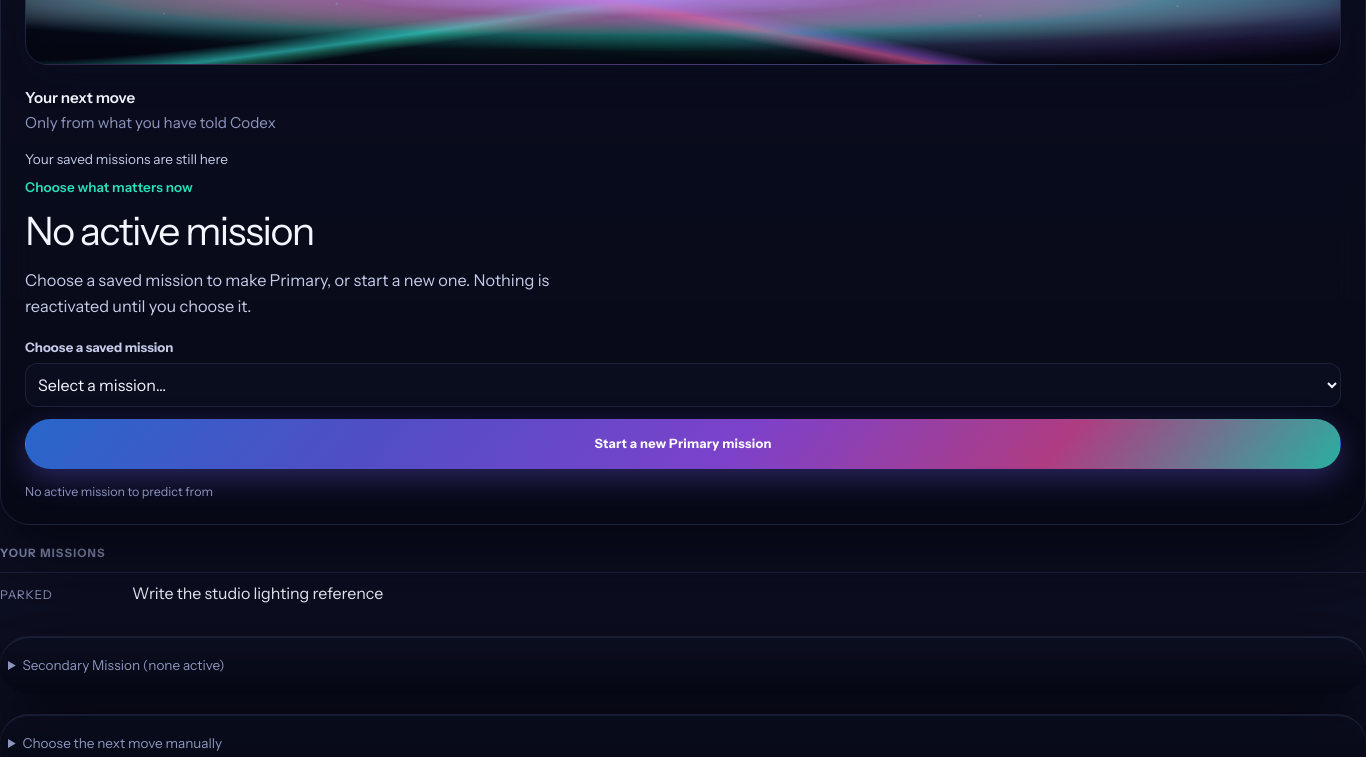
Test case: MissionTab inactive mission recovery › disables the other promotion path until finish-line persistence settles
(page scrolled)
Step 1. Select "Write the studio lighting reference — Parked" in the dropdown labelled "Choose a saved mission" → (683, 385), box [25,363,1341,407]
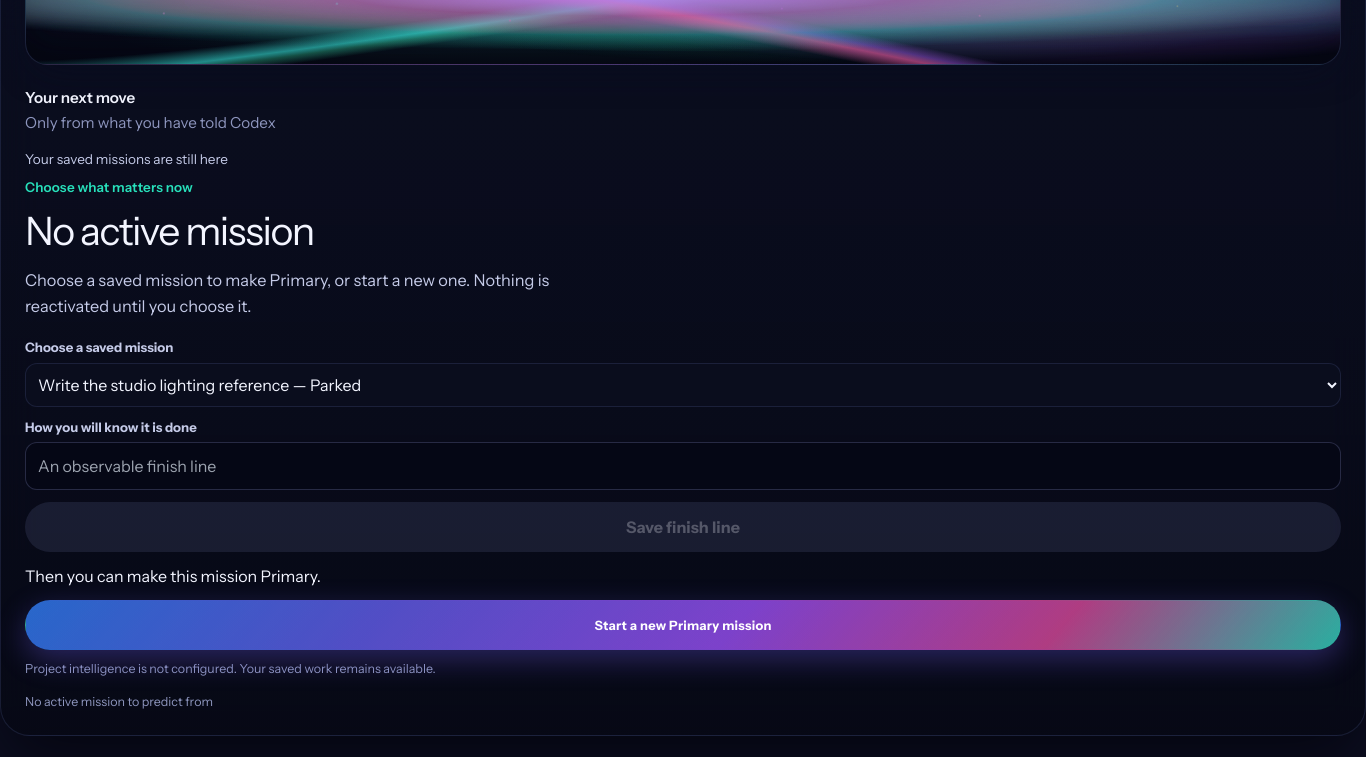
Step 2. Type "The reference is published" into the field labelled "How you will know it is done" → (683, 466), box [25,442,1341,490]
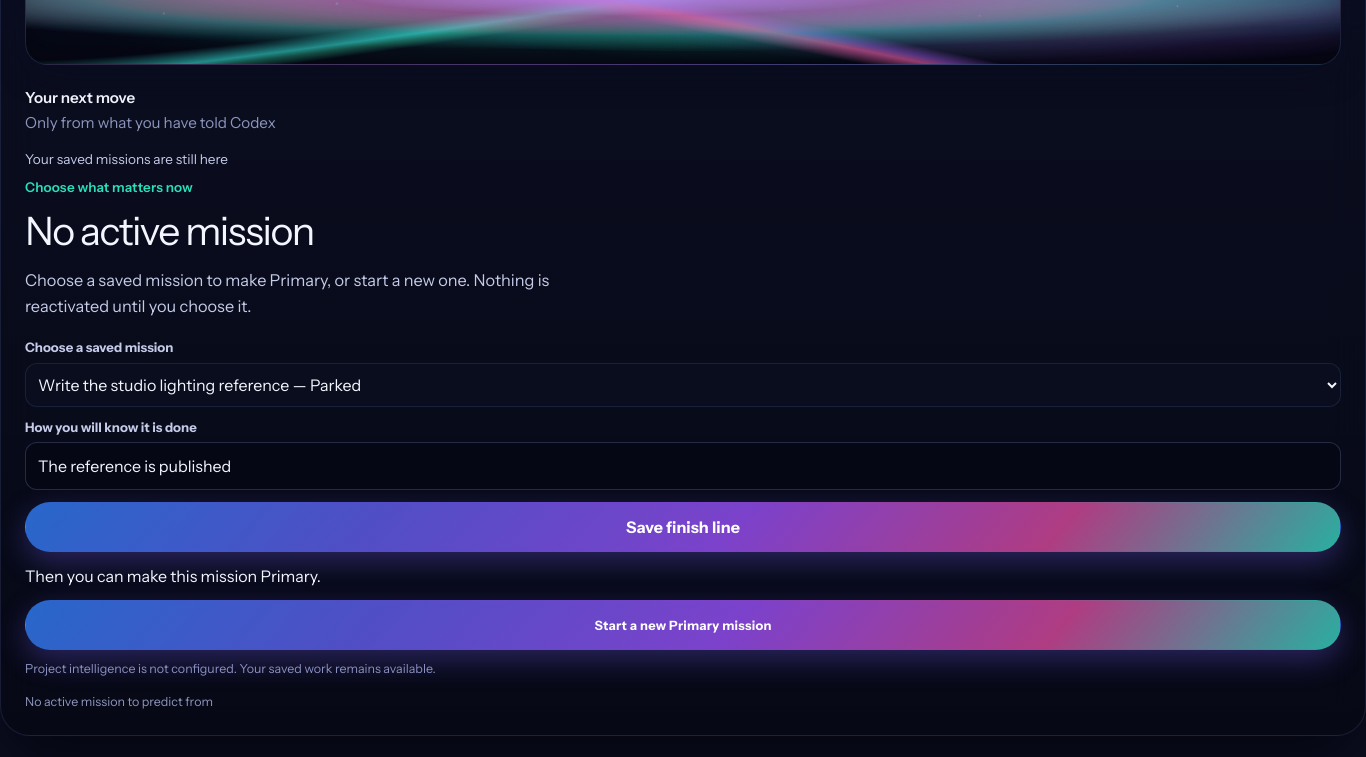
Step 3. Click the button "Save finish line" → click(683, 527), box [25,502,1341,552]
(page scrolled)
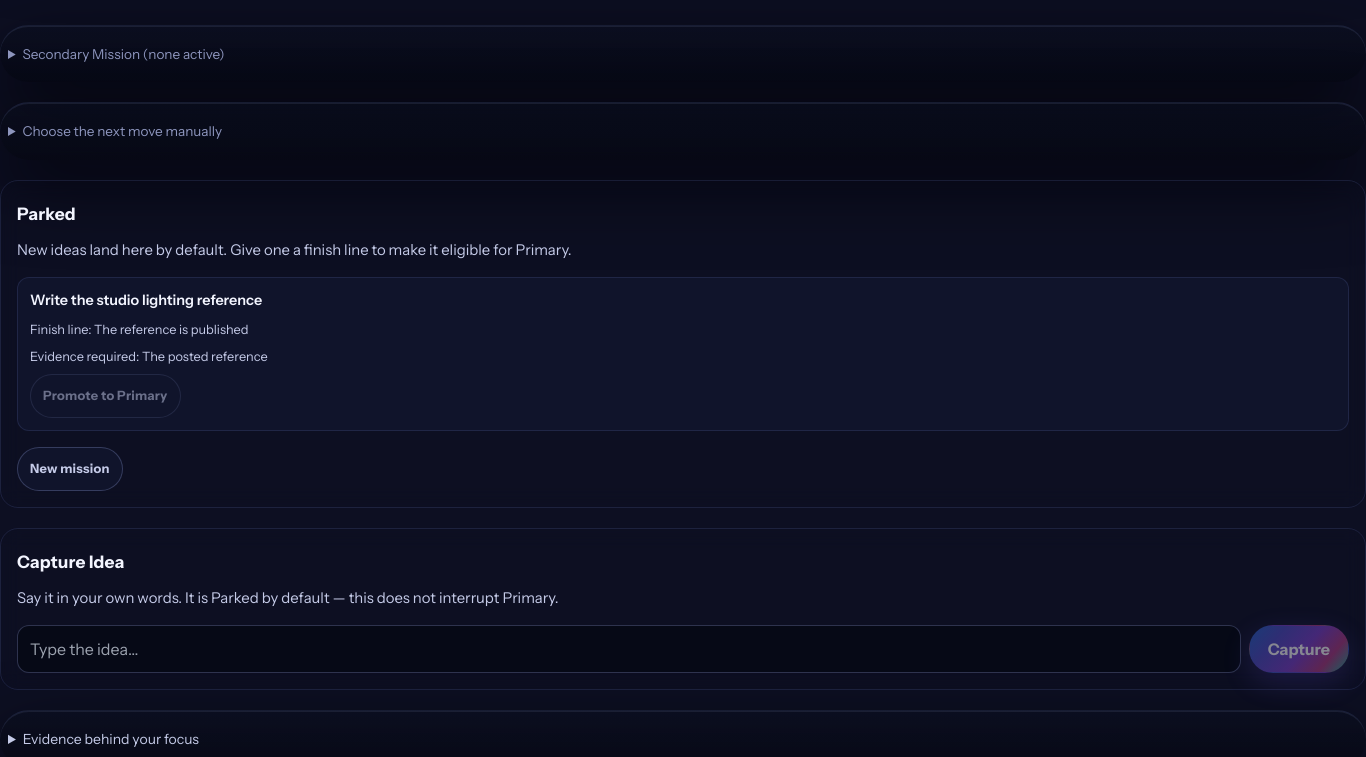
Expected: the button "Promote to Primary" is disabled
Step 4. Click the button "Promote to Primary" → click(105, 396), box [30,374,180,418]
(page scrolled)
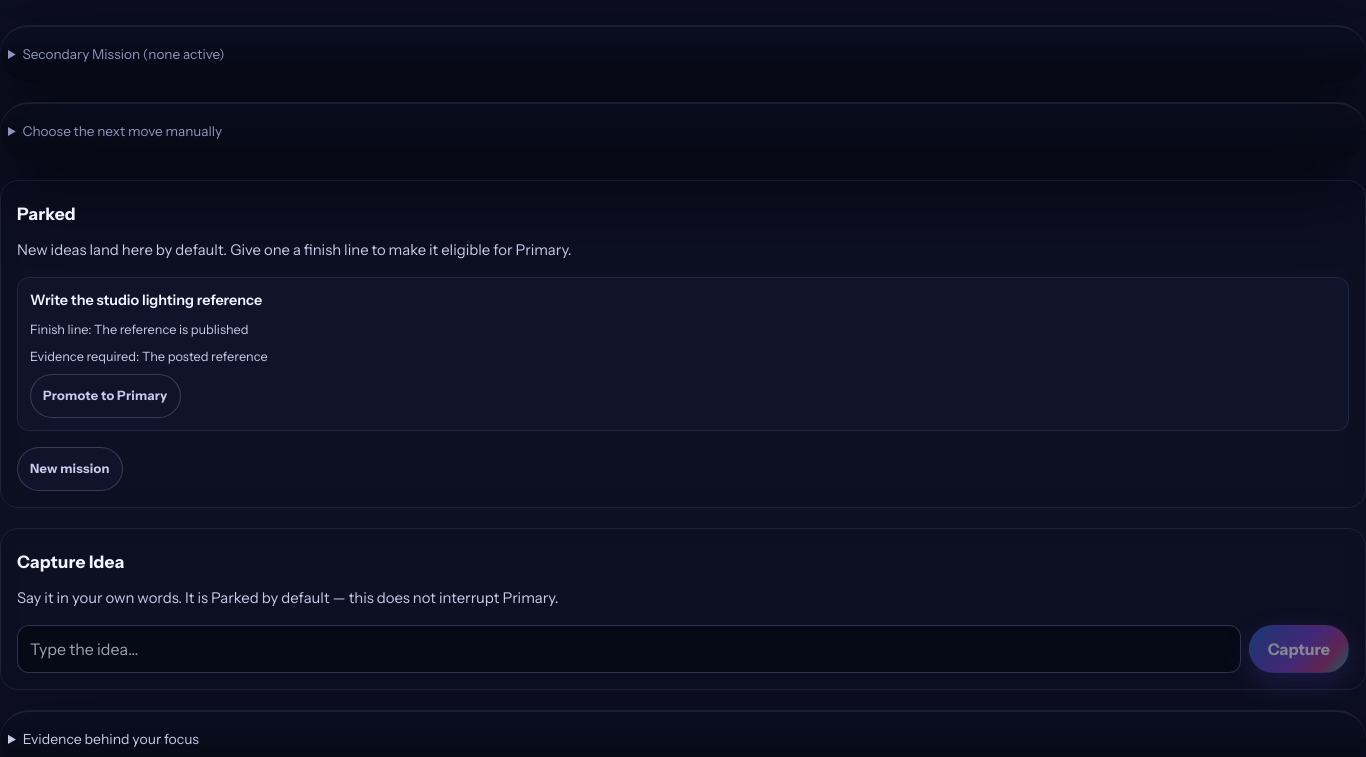
Expected: the button "Promote to Primary" is enabled, [30,374,180,418]
